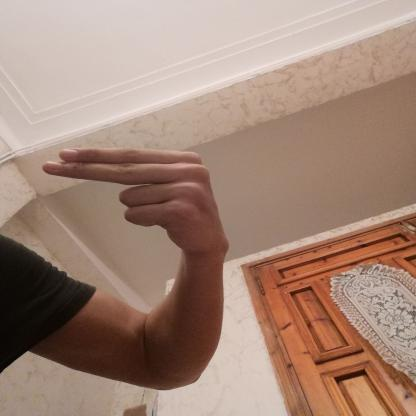AYN: (31, 137, 244, 265)
